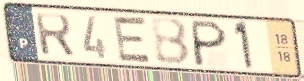1: (232, 19, 256, 72)
4: (82, 14, 108, 60)
B: (148, 17, 193, 67)
E: (112, 14, 154, 65)
P: (191, 18, 229, 69)
R: (32, 11, 77, 59)
